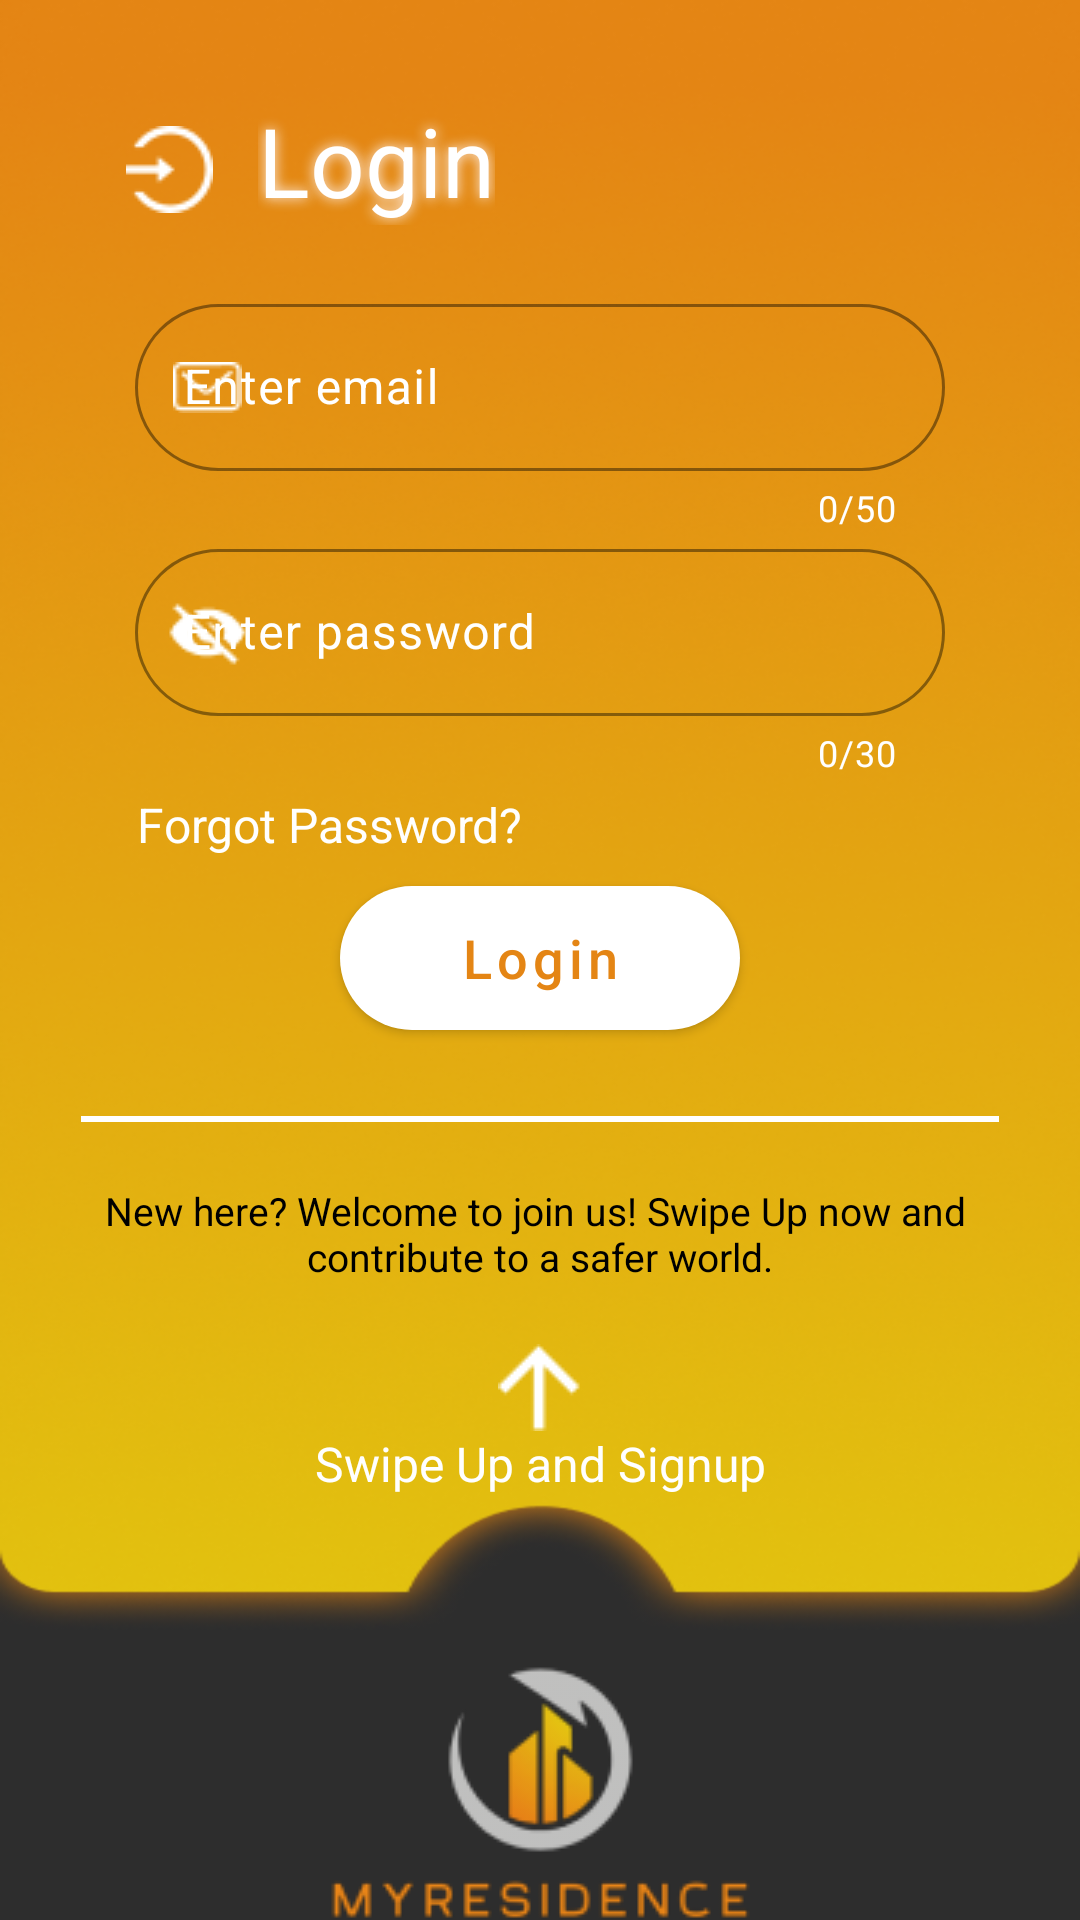

Icons on this 1080*1920 Android screen, each with its box as (x1, y1, x2, y2):
upward arrow: (498, 1344, 580, 1431)
